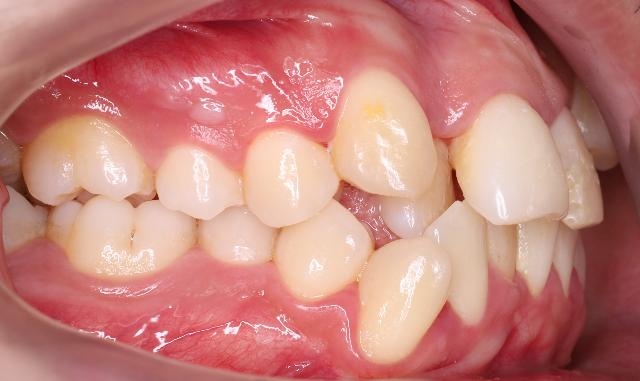canine class II 3/4: (269, 54, 457, 370)
molar class III 1/4: (16, 111, 198, 287)
